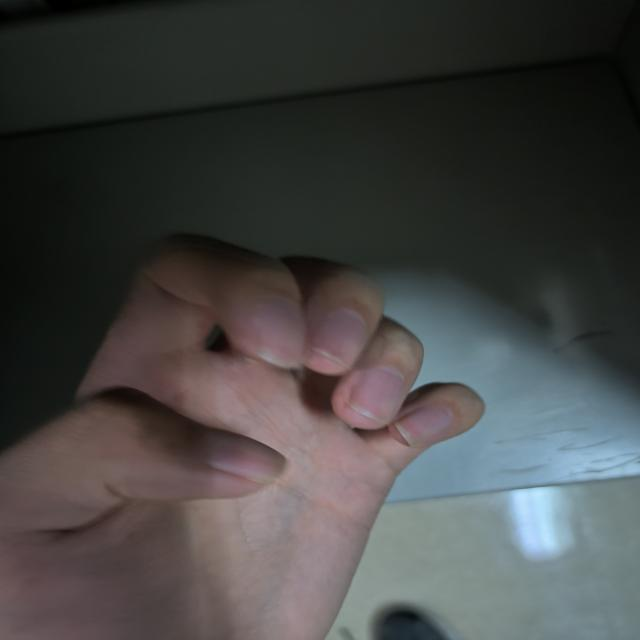Nail: (202, 429, 287, 483), (252, 296, 305, 367), (312, 311, 367, 368), (349, 366, 403, 424), (396, 405, 451, 445)
